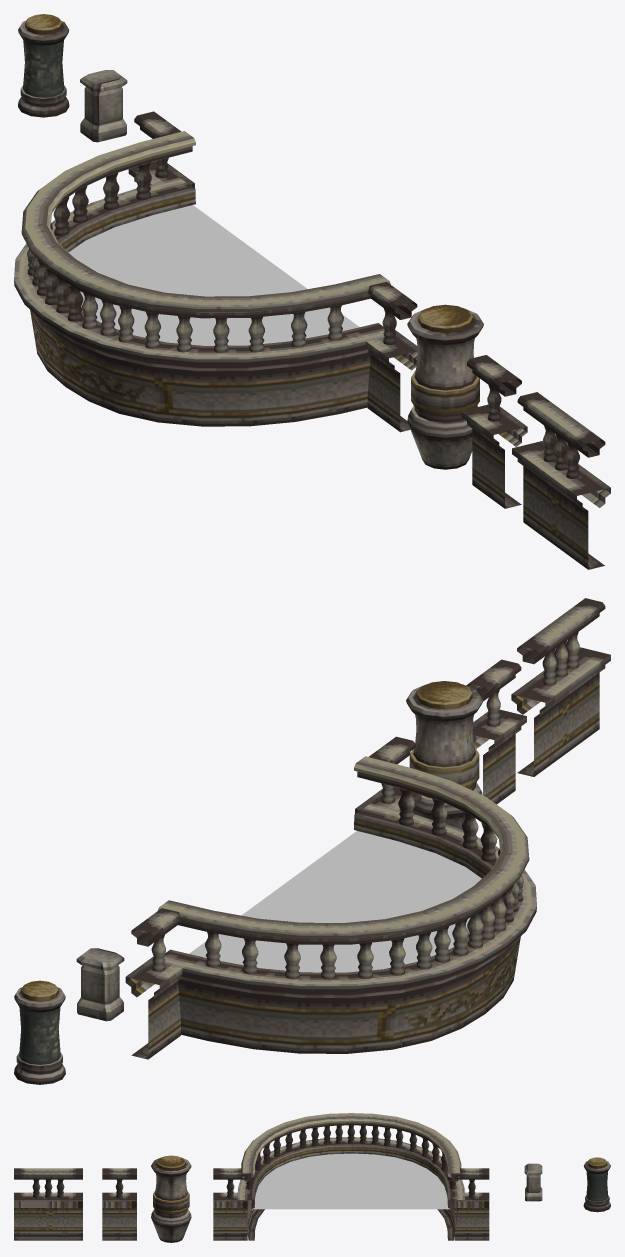
File: EnvMdrMD_Mansion_A_Fence_Post_A.FBX
3 renders of one model, top to bottom at view 1: azimuth 30°, elevation 25°; view 2: azimuth 150°, elevation 25°; view 3: azimuth 270°, elevation 25°, orthographic. The views are drawn at different scales.
Visible parts, largest first — view 1: EnvMdrMD_Mansion_A_Fenece_Arch, EnvMdrMD_Mansion_A_Fence_Post_C, EnvMdrMD_Mansion_A_Fenece_A, EnvMdrMD_Mansion_A_Fenece_A_StairsJunction, EnvMdrMD_Mansion_A_Fence_Post_B, EnvMdrMD_Mansion_A_Fence_Post_A; view 2: EnvMdrMD_Mansion_A_Fenece_Arch, EnvMdrMD_Mansion_A_Fenece_A, EnvMdrMD_Mansion_A_Fence_Post_C, EnvMdrMD_Mansion_A_Fenece_A_StairsJunction, EnvMdrMD_Mansion_A_Fence_Post_B, EnvMdrMD_Mansion_A_Fence_Post_A; view 3: EnvMdrMD_Mansion_A_Fenece_Arch, EnvMdrMD_Mansion_A_Fenece_A, EnvMdrMD_Mansion_A_Fence_Post_C, EnvMdrMD_Mansion_A_Fenece_A_StairsJunction, EnvMdrMD_Mansion_A_Fence_Post_B, EnvMdrMD_Mansion_A_Fence_Post_A.
Part boxes in pixels (x1=…): EnvMdrMD_Mansion_A_Fenece_Arch: x1=14, y1=111, x2=417, y2=432; EnvMdrMD_Mansion_A_Fence_Post_C: x1=407, y1=304, x2=483, y2=469; EnvMdrMD_Mansion_A_Fenece_A: x1=512, y1=392, x2=610, y2=569; EnvMdrMD_Mansion_A_Fenece_A_StairsJunction: x1=461, y1=355, x2=527, y2=508; EnvMdrMD_Mansion_A_Fence_Post_B: x1=18, y1=14, x2=69, y2=117; EnvMdrMD_Mansion_A_Fence_Post_A: x1=80, y1=70, x2=127, y2=142; EnvMdrMD_Mansion_A_Fenece_Arch: x1=125, y1=736, x2=536, y2=1059; EnvMdrMD_Mansion_A_Fenece_A: x1=511, y1=598, x2=610, y2=776; EnvMdrMD_Mansion_A_Fence_Post_C: x1=406, y1=681, x2=483, y2=830; EnvMdrMD_Mansion_A_Fenece_A_StairsJunction: x1=466, y1=659, x2=526, y2=804; EnvMdrMD_Mansion_A_Fence_Post_B: x1=14, y1=980, x2=65, y2=1084; EnvMdrMD_Mansion_A_Fence_Post_A: x1=76, y1=948, x2=124, y2=1021; EnvMdrMD_Mansion_A_Fenece_Arch: x1=213, y1=1113, x2=489, y2=1240; EnvMdrMD_Mansion_A_Fenece_A: x1=14, y1=1168, x2=82, y2=1240; EnvMdrMD_Mansion_A_Fence_Post_C: x1=151, y1=1155, x2=191, y2=1242; EnvMdrMD_Mansion_A_Fenece_A_StairsJunction: x1=102, y1=1168, x2=136, y2=1240; EnvMdrMD_Mansion_A_Fence_Post_B: x1=583, y1=1157, x2=610, y2=1212; EnvMdrMD_Mansion_A_Fence_Post_A: x1=524, y1=1163, x2=542, y2=1201.
Size of the model in its own units: 471 by 245 by 1730.
